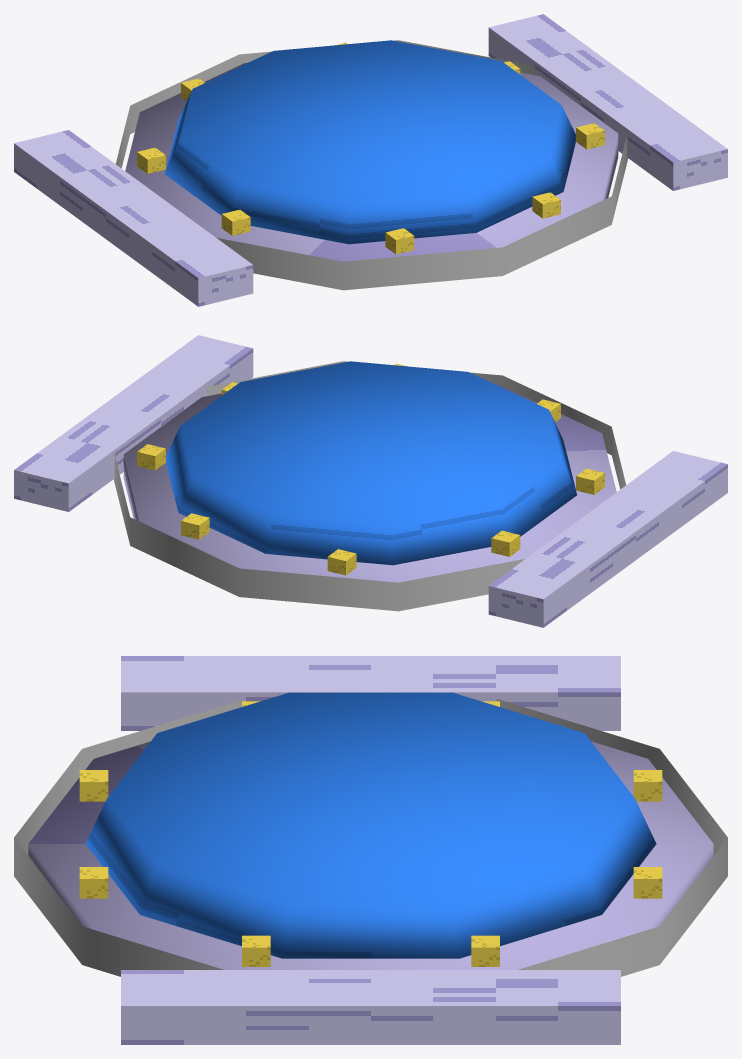
The model's file is Upgrade Second Turret Mount.fbx.
The picture shows the model from 3 angles, top to bottom: view 1: azimuth 30°, elevation 25°; view 2: azimuth 150°, elevation 25°; view 3: azimuth 270°, elevation 25°; orthographic projection. The views are drawn at different scales.
Visible parts, largest first — view 1: Upgrade Second Turret Mount mount bearing, Upgrade Second Turret Mount mount brace -1, Upgrade Second Turret Mount mount brace 1, Upgrade Second Turret Mount mount plate, Upgrade Second Turret Mount mount hazard band, Upgrade Second Turret Mount mount bolt 5, Upgrade Second Turret Mount mount bolt 4, Upgrade Second Turret Mount mount bolt 7, Upgrade Second Turret Mount mount bolt 6, Upgrade Second Turret Mount mount bolt 3; view 2: Upgrade Second Turret Mount mount bearing, Upgrade Second Turret Mount mount brace -1, Upgrade Second Turret Mount mount brace 1, Upgrade Second Turret Mount mount plate, Upgrade Second Turret Mount mount hazard band, Upgrade Second Turret Mount mount bolt 2, Upgrade Second Turret Mount mount bolt 3, Upgrade Second Turret Mount mount bolt 0, Upgrade Second Turret Mount mount bolt 1, Upgrade Second Turret Mount mount bolt 4; view 3: Upgrade Second Turret Mount mount bearing, Upgrade Second Turret Mount mount brace 1, Upgrade Second Turret Mount mount plate, Upgrade Second Turret Mount mount brace -1, Upgrade Second Turret Mount mount hazard band, Upgrade Second Turret Mount mount bolt 1, Upgrade Second Turret Mount mount bolt 6, Upgrade Second Turret Mount mount bolt 2, Upgrade Second Turret Mount mount bolt 5, Upgrade Second Turret Mount mount bolt 0, Upgrade Second Turret Mount mount bolt 7.
Part boxes in pixels (x1,y1,x2,y2): Upgrade Second Turret Mount mount bearing: (165, 40, 575, 244); Upgrade Second Turret Mount mount brace -1: (14, 130, 253, 306); Upgrade Second Turret Mount mount brace 1: (488, 14, 727, 190); Upgrade Second Turret Mount mount plate: (125, 63, 618, 261); Upgrade Second Turret Mount mount hazard band: (116, 40, 628, 290); Upgrade Second Turret Mount mount bolt 5: (385, 228, 414, 254); Upgrade Second Turret Mount mount bolt 4: (221, 209, 250, 235); Upgrade Second Turret Mount mount bolt 7: (576, 123, 604, 149); Upgrade Second Turret Mount mount bolt 6: (532, 192, 560, 218); Upgrade Second Turret Mount mount bolt 3: (137, 147, 165, 173); Upgrade Second Turret Mount mount bearing: (166, 361, 576, 565); Upgrade Second Turret Mount mount brace -1: (488, 451, 727, 627); Upgrade Second Turret Mount mount brace 1: (14, 335, 253, 511); Upgrade Second Turret Mount mount plate: (123, 384, 616, 582); Upgrade Second Turret Mount mount hazard band: (113, 361, 625, 611); Upgrade Second Turret Mount mount bolt 2: (327, 549, 356, 575); Upgrade Second Turret Mount mount bolt 3: (491, 530, 520, 556); Upgrade Second Turret Mount mount bolt 0: (137, 444, 165, 470); Upgrade Second Turret Mount mount bolt 1: (181, 513, 209, 539); Upgrade Second Turret Mount mount bolt 4: (576, 468, 604, 494); Upgrade Second Turret Mount mount bearing: (85, 692, 656, 958); Upgrade Second Turret Mount mount brace 1: (121, 970, 620, 1044); Upgrade Second Turret Mount mount plate: (28, 741, 713, 969); Upgrade Second Turret Mount mount brace -1: (121, 656, 620, 730); Upgrade Second Turret Mount mount hazard band: (14, 699, 727, 976); Upgrade Second Turret Mount mount bolt 1: (633, 867, 662, 898); Upgrade Second Turret Mount mount bolt 6: (79, 867, 108, 898); Upgrade Second Turret Mount mount bolt 2: (633, 770, 662, 801); Upgrade Second Turret Mount mount bolt 5: (79, 770, 108, 801); Upgrade Second Turret Mount mount bolt 0: (471, 935, 499, 966); Upgrade Second Turret Mount mount bolt 7: (242, 935, 270, 966).
Bounding box in the file's own units: 1.16 × 0.12 × 1.
